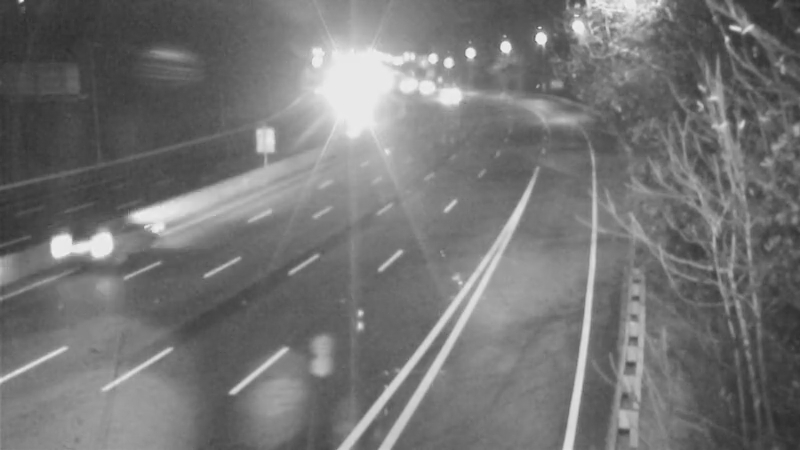vehicle: (55, 203, 135, 283), (399, 63, 449, 113), (426, 71, 476, 121)
